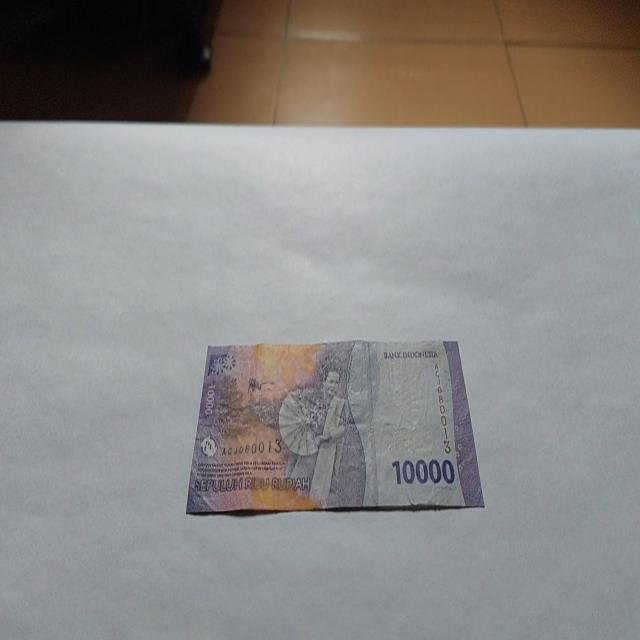sepuluh ribu rupiah: (185, 338, 484, 516)
